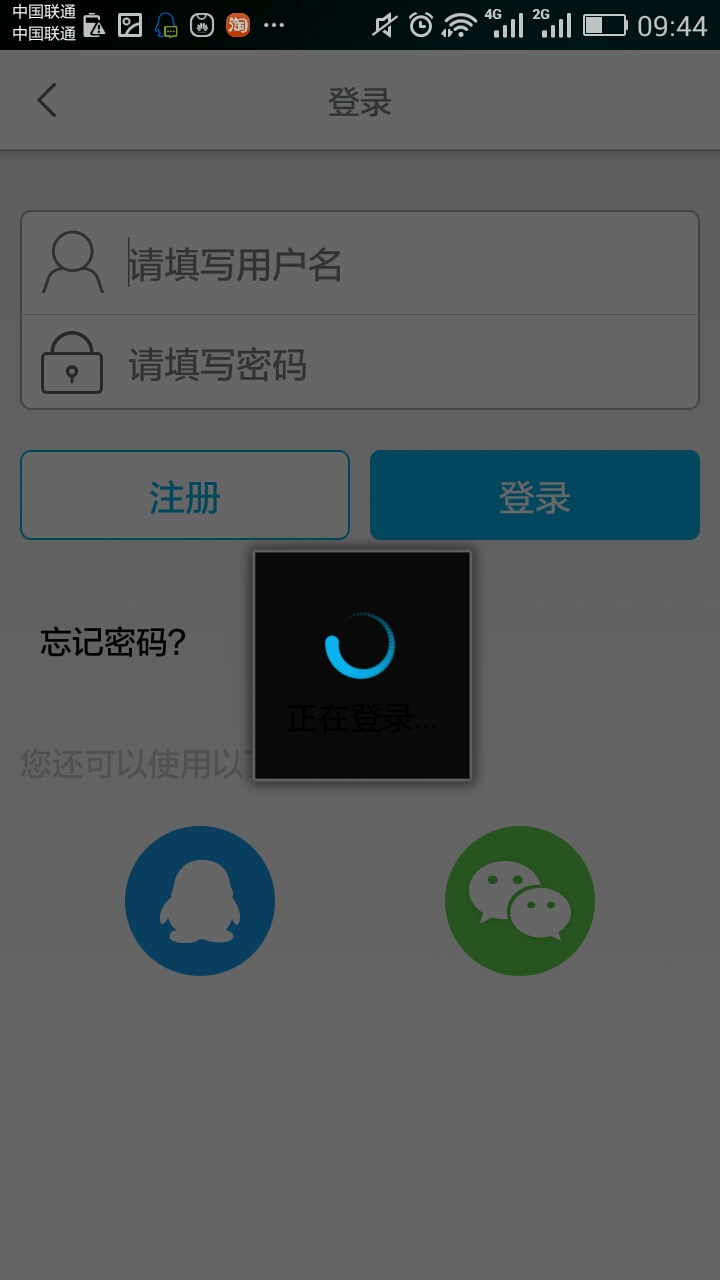alert: (250, 540, 482, 791)
